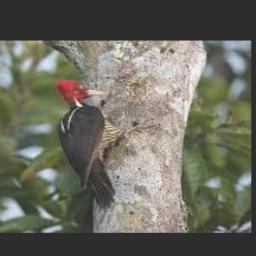Woodpecker: (55, 79, 156, 209)
